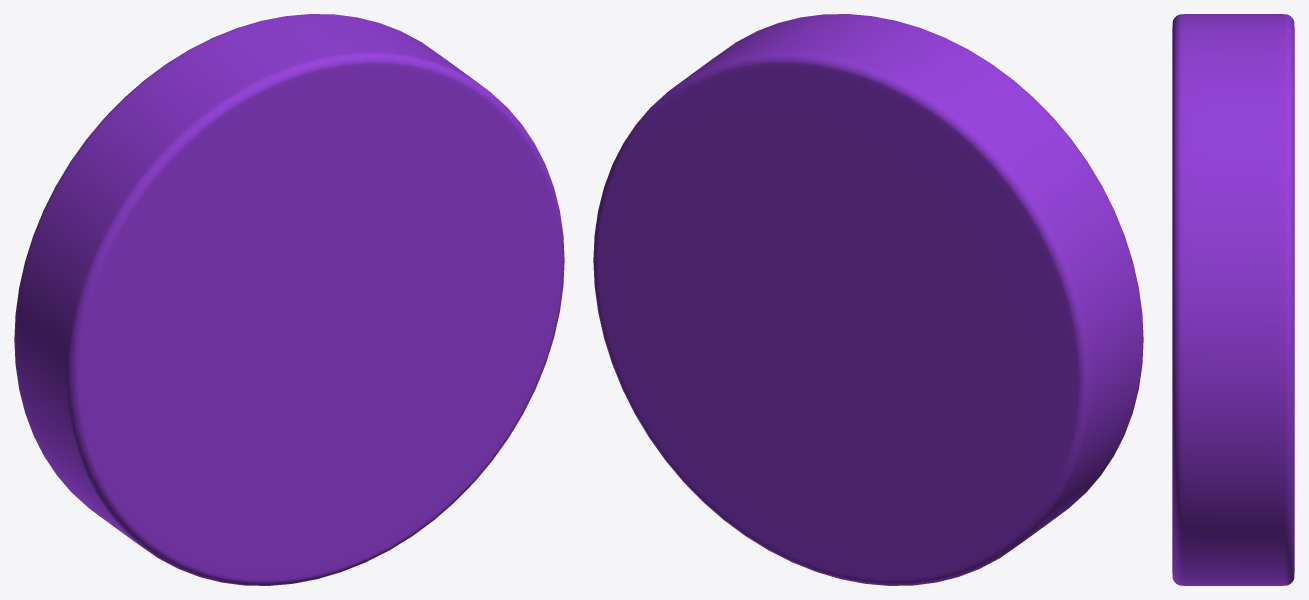
3 renders of one model, left to right at view 1: azimuth 30°, elevation 25°; view 2: azimuth 150°, elevation 25°; view 3: azimuth 270°, elevation 25°, orthographic.
Parts seen in each view (by area): view 1: Cylinder; view 2: Cylinder; view 3: Cylinder.
Part boxes in pixels (x1=…): Cylinder: x1=14, y1=14, x2=564, y2=585; Cylinder: x1=593, y1=14, x2=1143, y2=585; Cylinder: x1=1172, y1=14, x2=1294, y2=585.
Size of the model in its own units: 180 by 180 by 38.54.
